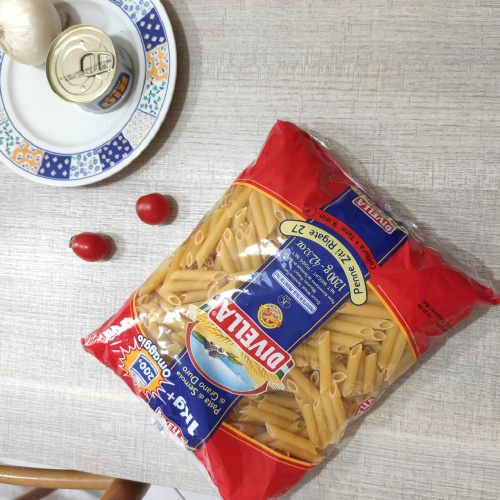cipolla: (3, 3, 58, 62)
pasta: (181, 182, 391, 463)
pomodoro: (65, 229, 114, 262), (134, 189, 172, 228)
tonno: (45, 26, 138, 113)
